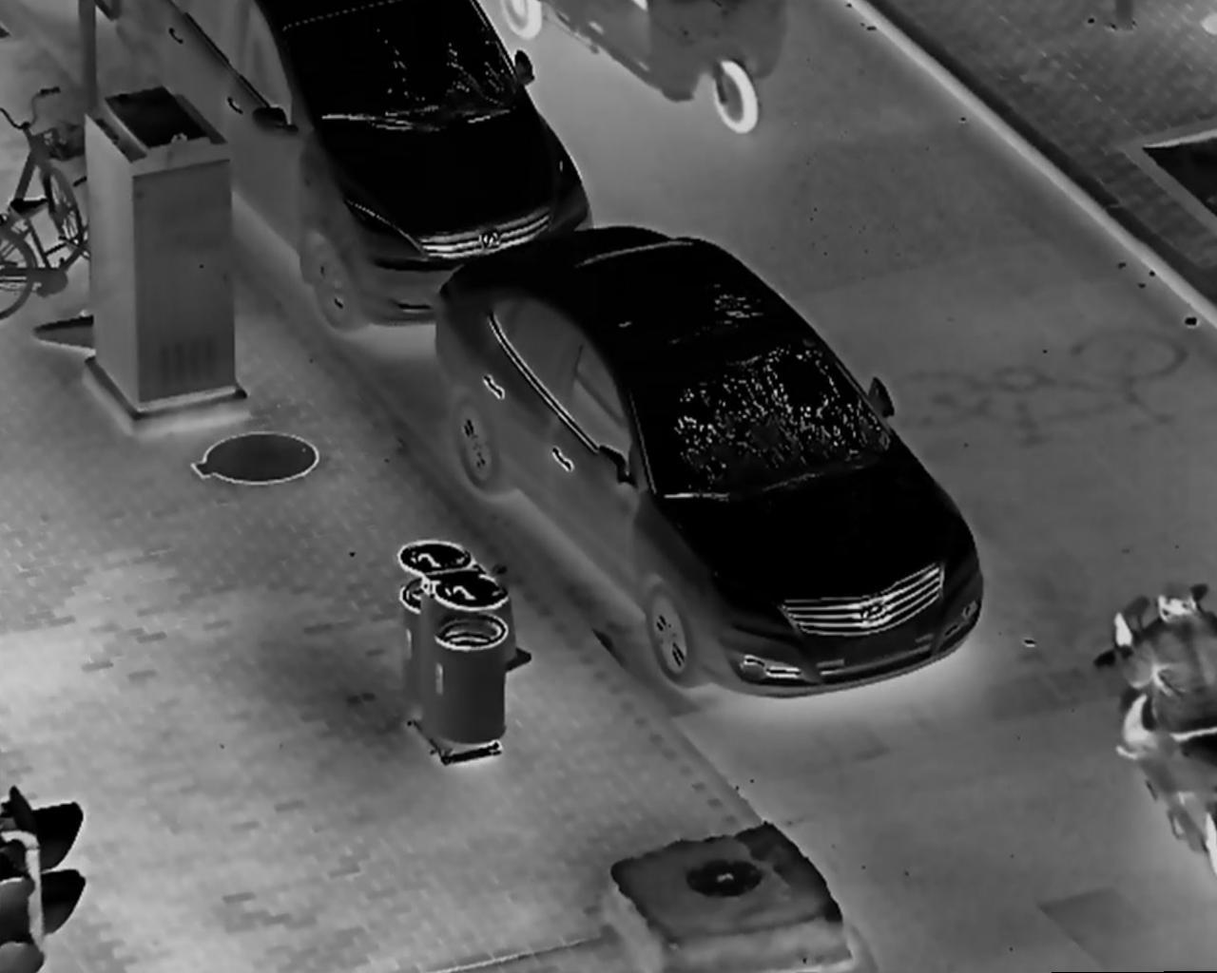person: (1111, 570, 1217, 773)
